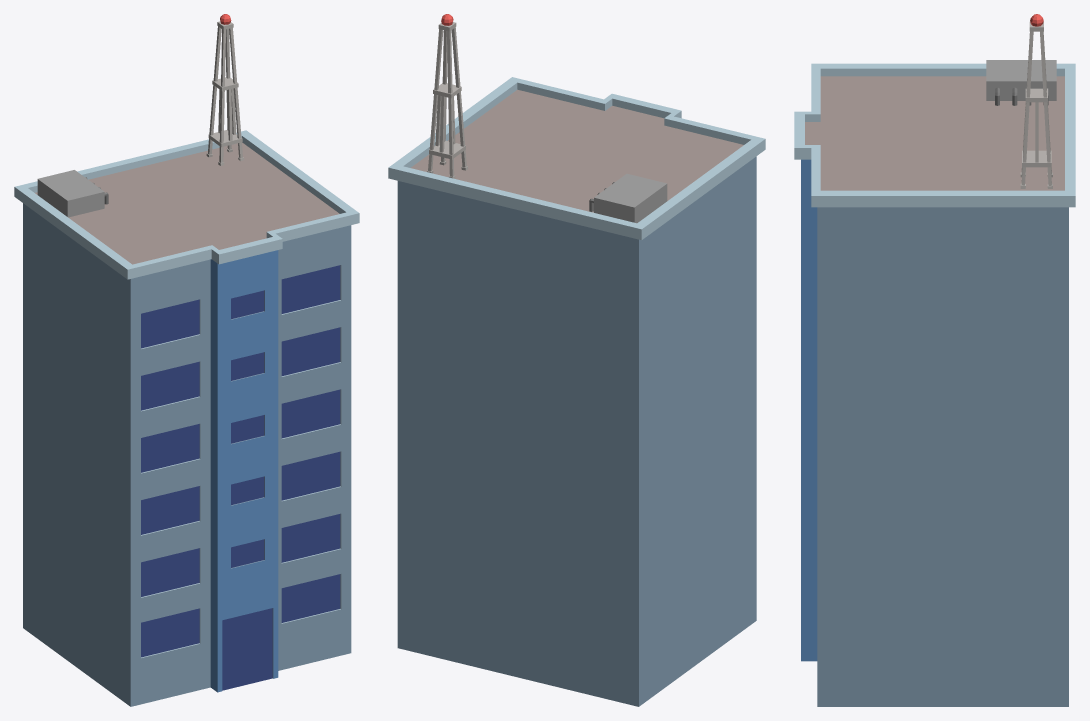
File: city_17.FBX
The picture shows the model from 3 angles, left to right: view 1: azimuth 30°, elevation 25°; view 2: azimuth 150°, elevation 25°; view 3: azimuth 270°, elevation 25°; orthographic projection. The views are drawn at different scales.
Parts seen in each view (by area): view 1: city_16; view 2: city_16; view 3: city_16.
Part boxes in pixels (x1=…): city_16: x1=14, y1=14, x2=359, y2=706; city_16: x1=388, y1=14, x2=765, y2=706; city_16: x1=794, y1=14, x2=1075, y2=706.
Bounding box in the file's own units: 3230 × 7688 × 2907.
